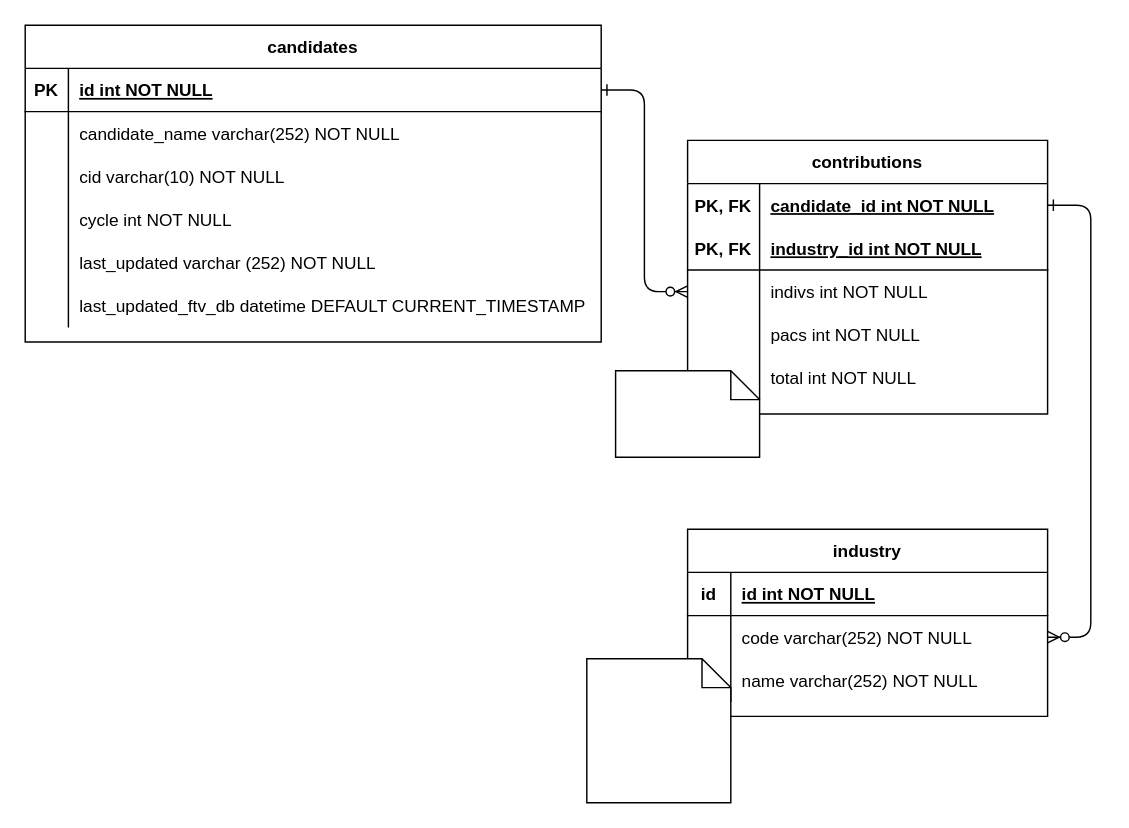
Some shapes in this 1129 by 828 pixel diagram are drawn without their labels. Here are the shapes that lost their labels. From the top down, the centre of each, then its label:
At (687,413): "ideally this column would be deleted".
At (658,730): "Should I index one or both?".
